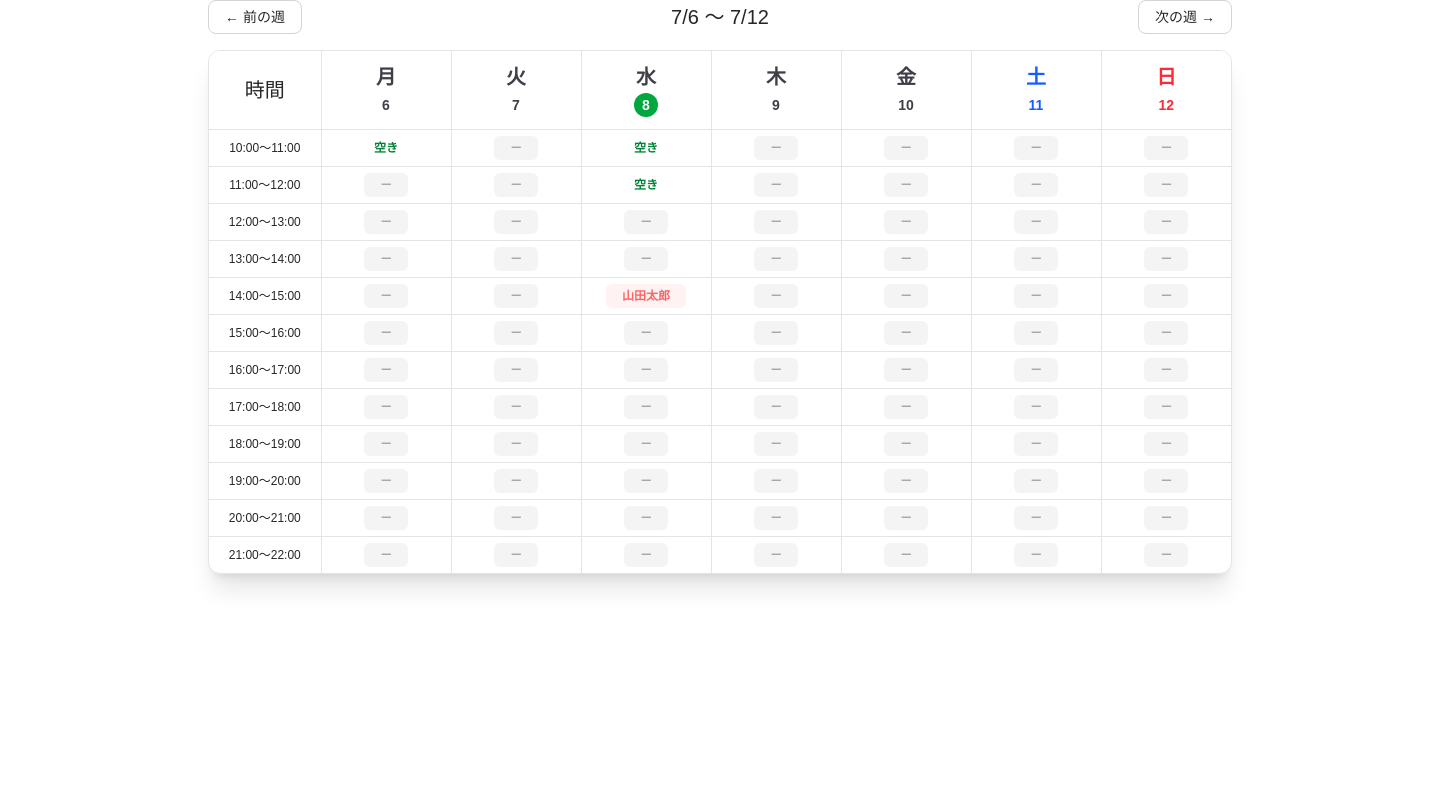
Test: AdminCalendar › 予約済みマスをクリックすると詳細モーダルが開く
Expected: the text "山田太郎" is shown, [622, 289, 670, 303]
Step 1. Click the cell "山田太郎" → (646, 296), box [581, 278, 711, 314]
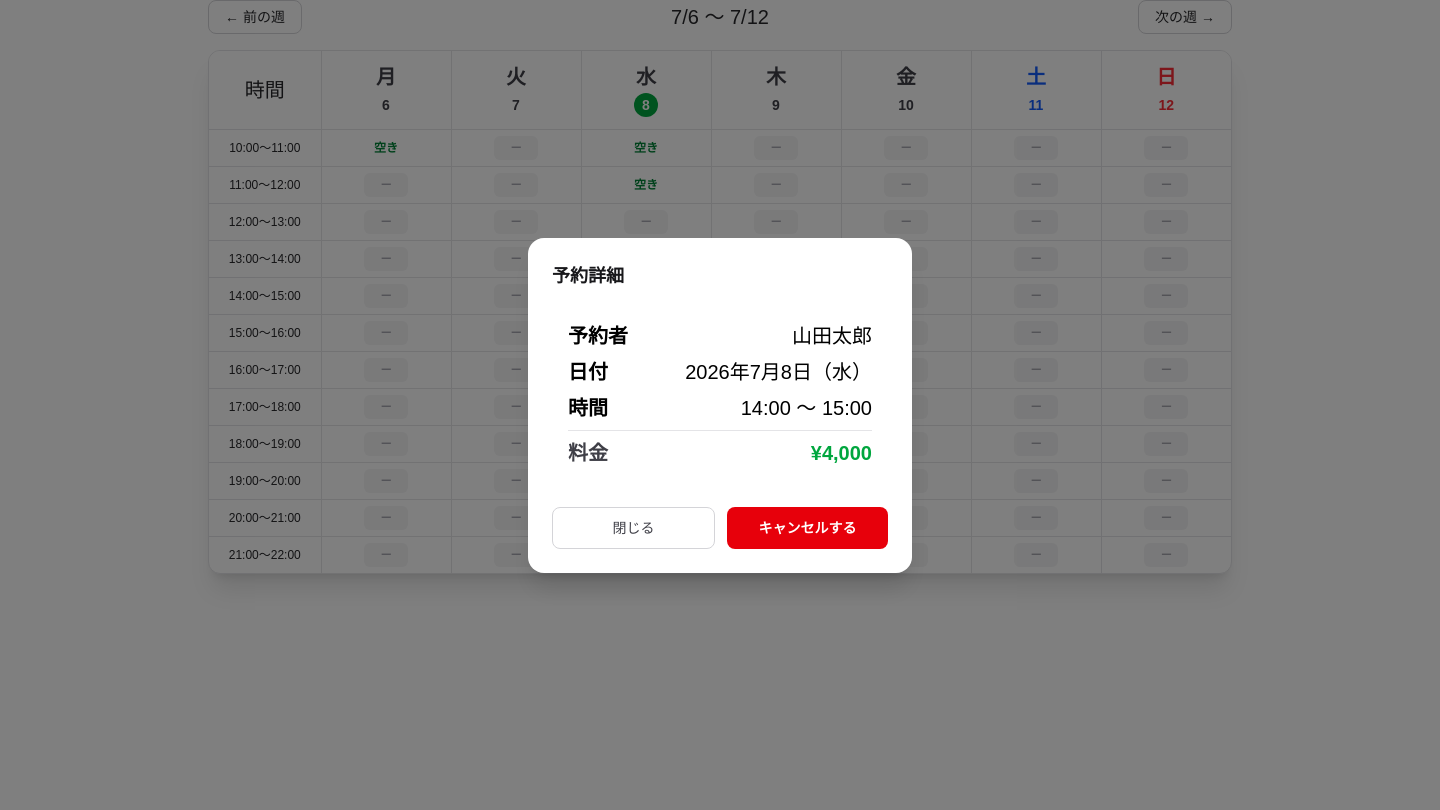
Result: the heading "予約詳細" is shown at [552, 266, 624, 286]
Result: the text "¥4,000" is shown at [811, 438, 872, 466]
